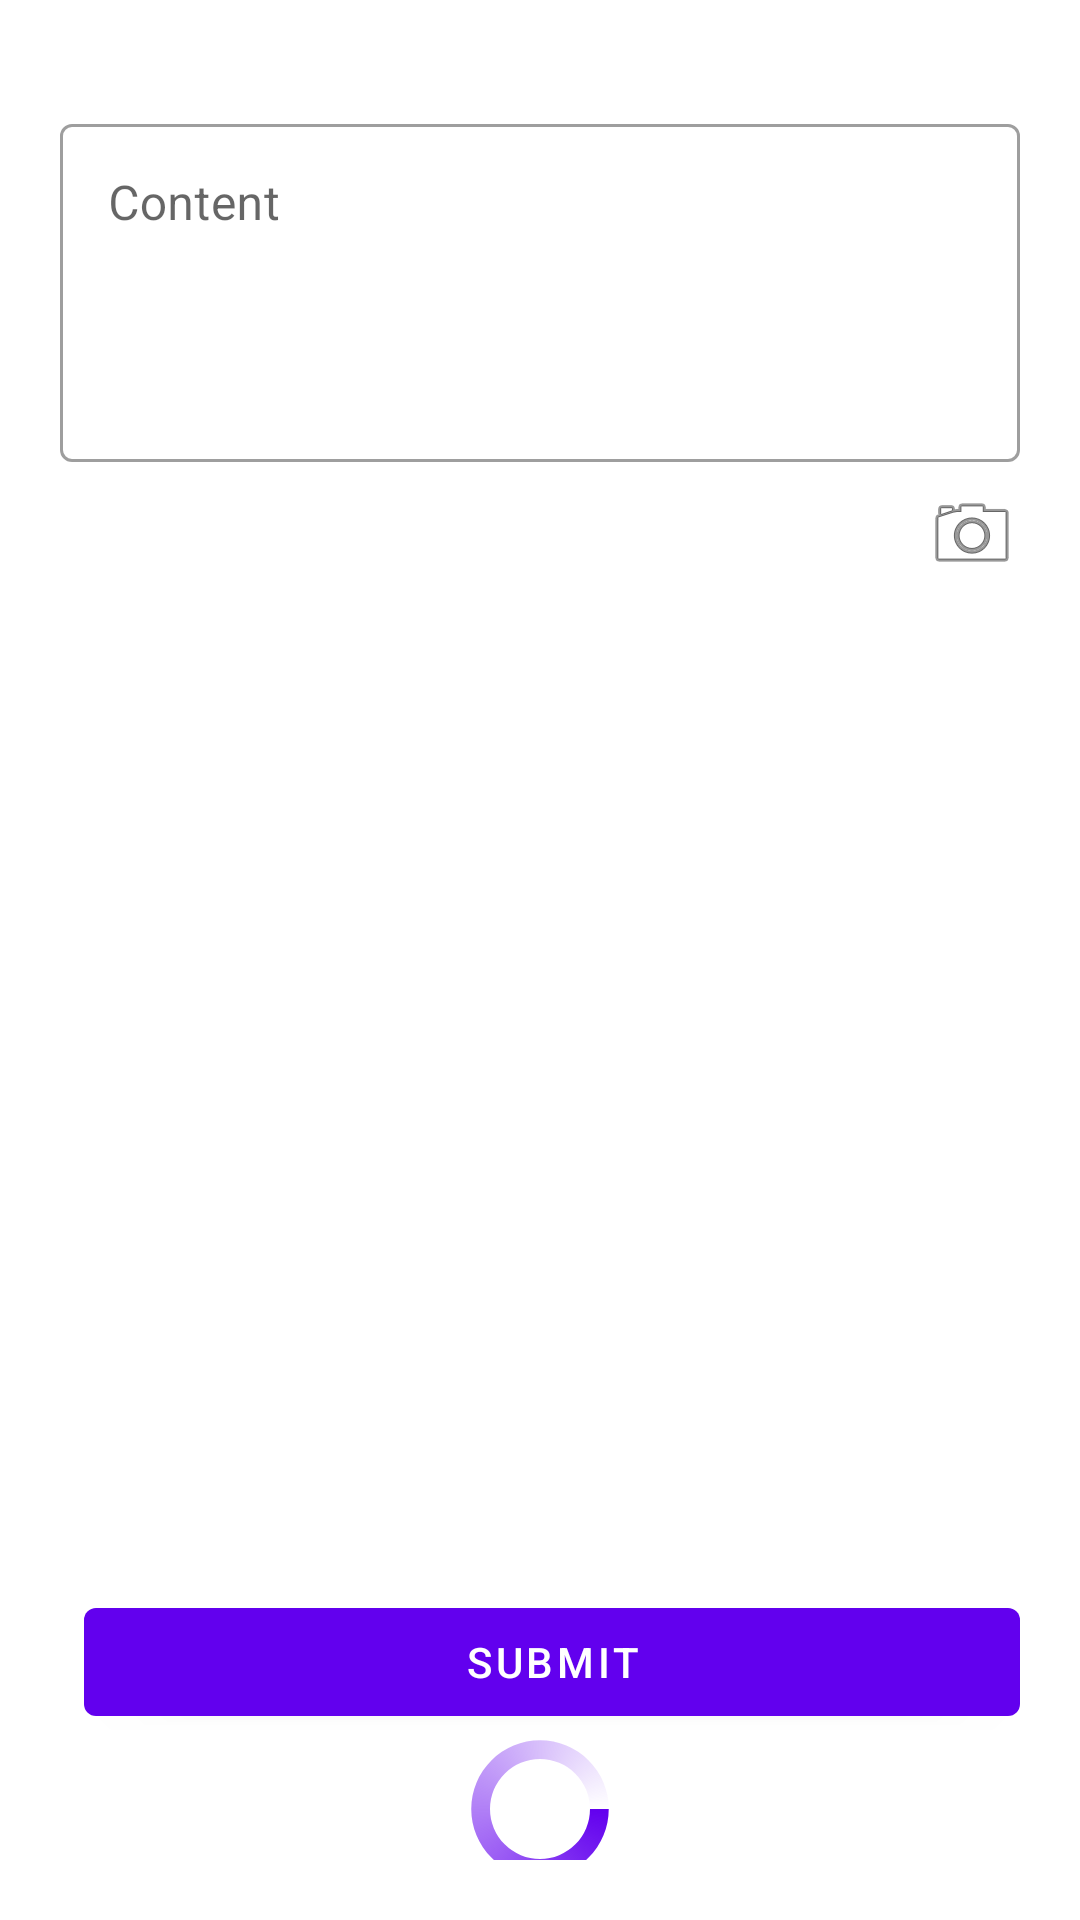

Point at icon controls on the screen. Image size 1080w x 1920h, points as (x=x, y=y).
Upload picture: (x=972, y=532)
